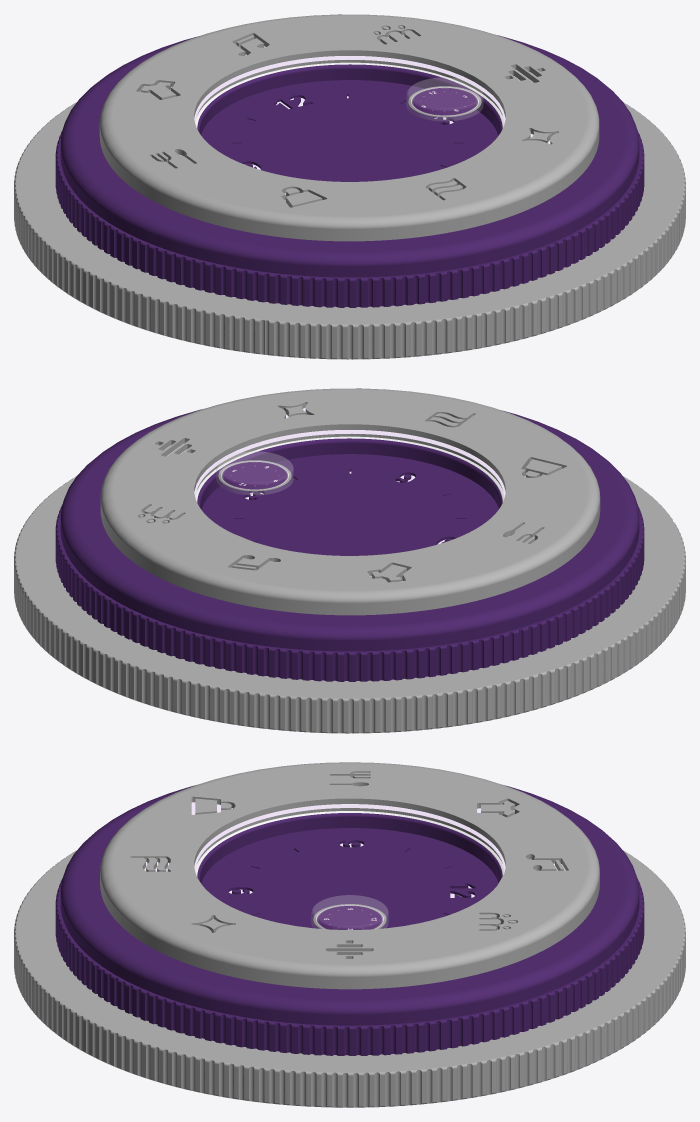
The picture shows the model from 3 angles, top to bottom: view 1: azimuth 30°, elevation 25°; view 2: azimuth 150°, elevation 25°; view 3: azimuth 270°, elevation 25°; orthographic projection.
Visible parts, largest first — view 1: icon_plate, silver_base, purple_ring, clock_face, purple_knurl, glass_lens, lens_mag, plaster; view 2: icon_plate, silver_base, purple_ring, clock_face, purple_knurl, glass_lens, lens_mag, plaster; view 3: icon_plate, silver_base, purple_ring, clock_face, purple_knurl, glass_lens, lens_mag, plaster, icon_4.
Boxes of the visible parts, bbox=[...] form: icon_plate: bbox=[99, 14, 599, 241]; silver_base: bbox=[14, 102, 685, 359]; purple_ring: bbox=[60, 35, 639, 277]; clock_face: bbox=[197, 64, 502, 181]; purple_knurl: bbox=[55, 130, 644, 307]; glass_lens: bbox=[406, 77, 483, 120]; lens_mag: bbox=[408, 86, 481, 117]; plaster: bbox=[195, 62, 504, 128]; icon_plate: bbox=[100, 388, 600, 615]; silver_base: bbox=[14, 476, 685, 733]; purple_ring: bbox=[60, 409, 639, 651]; clock_face: bbox=[197, 438, 502, 555]; purple_knurl: bbox=[55, 504, 644, 681]; glass_lens: bbox=[216, 451, 293, 494]; lens_mag: bbox=[218, 460, 291, 491]; plaster: bbox=[195, 436, 504, 502]; icon_plate: bbox=[100, 762, 599, 989]; silver_base: bbox=[14, 850, 685, 1107]; purple_ring: bbox=[60, 785, 639, 1025]; clock_face: bbox=[197, 813, 502, 928]; purple_knurl: bbox=[55, 879, 644, 1055]; glass_lens: bbox=[311, 895, 388, 929]; lens_mag: bbox=[313, 904, 386, 929]; plaster: bbox=[195, 811, 504, 876]; icon_4: bbox=[288, 804, 411, 813].
Size of what is drawn, in the model's own units: 0.0492 by 0.0089 by 0.0492.
16 materials, 1 textured.
